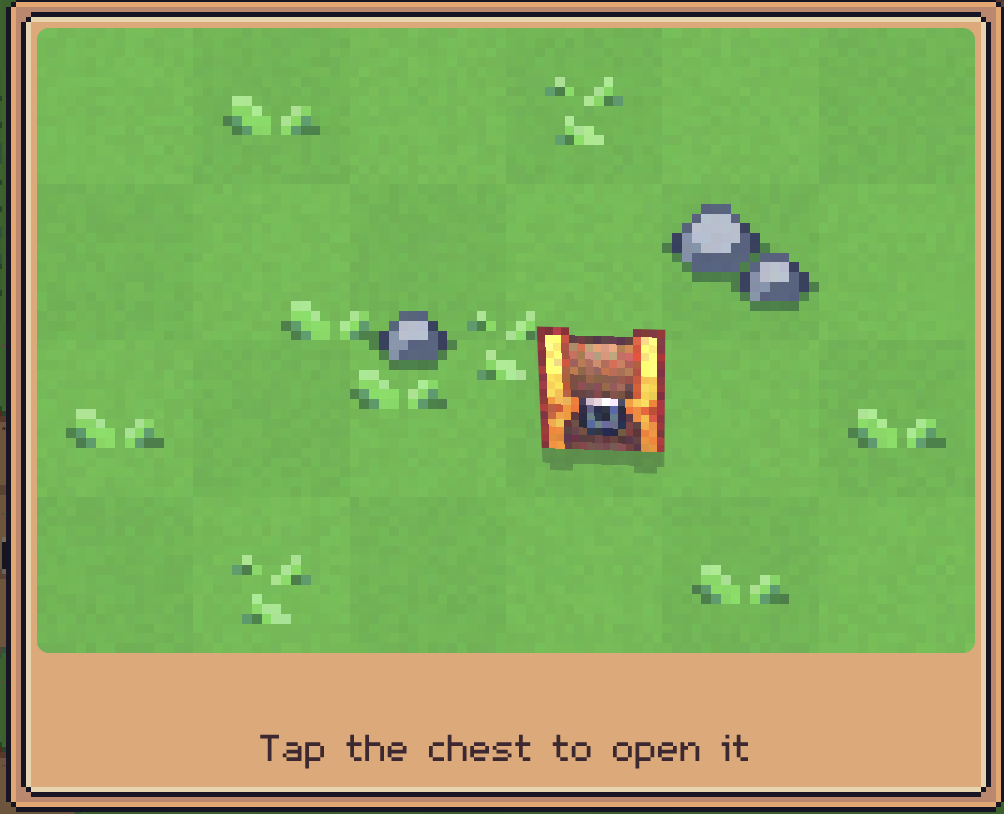capcha_goblin: (537, 327, 669, 455)
